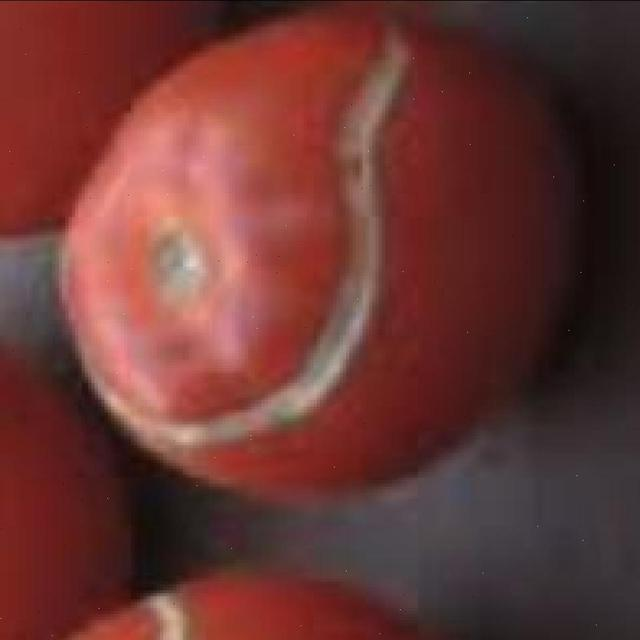Cracking Fruit: (48, 34, 241, 410)
